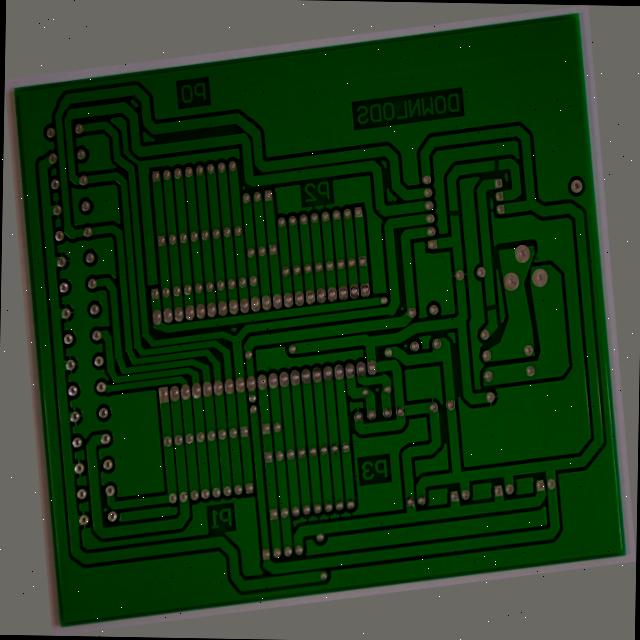open_circuit: (520, 163, 535, 183), (500, 325, 513, 344), (469, 213, 486, 227)
